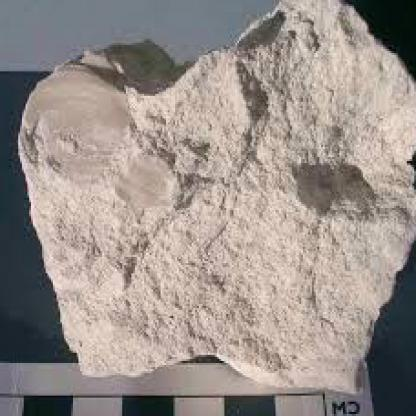Sedimentary_Chalk: (58, 49, 363, 347)
